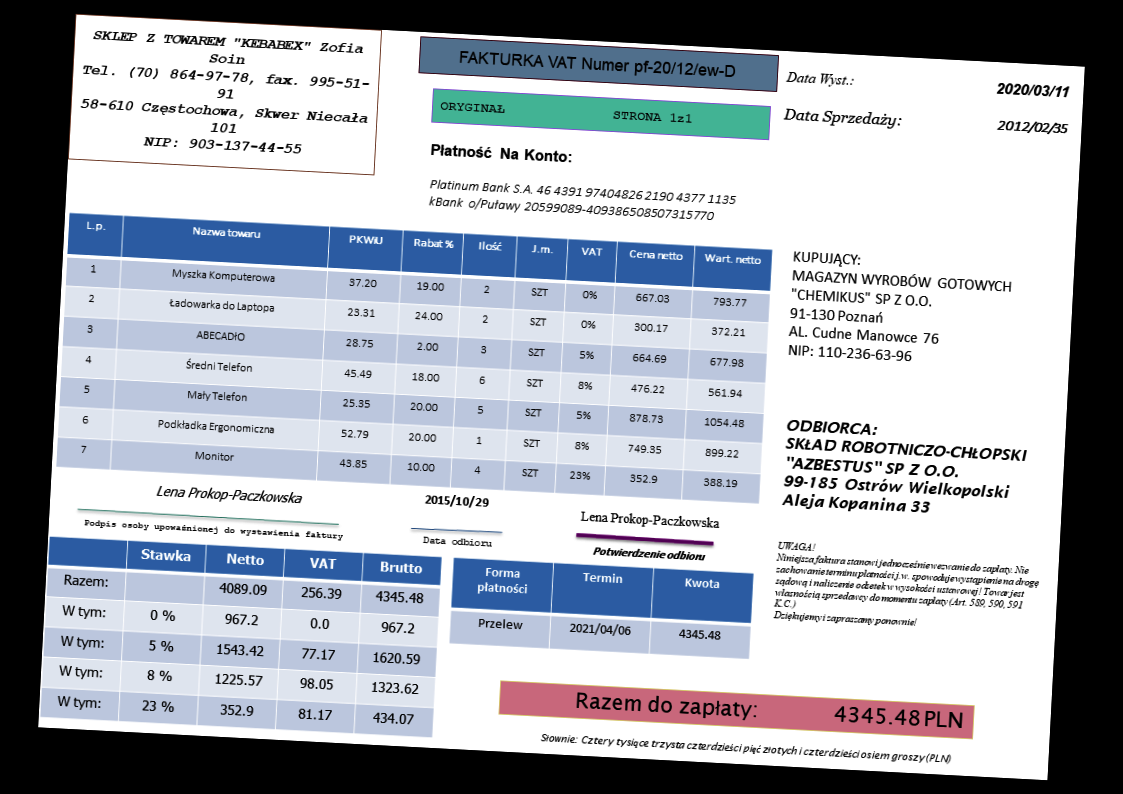Table: (54, 212, 774, 506), (39, 535, 444, 740), (448, 556, 756, 660)
TextBox: (74, 27, 375, 159), (785, 246, 1016, 370), (771, 538, 1044, 637), (780, 416, 1030, 522), (574, 689, 965, 733), (425, 175, 739, 225), (539, 730, 954, 766), (456, 45, 740, 83), (439, 98, 696, 126), (81, 517, 345, 542), (154, 482, 305, 508), (428, 140, 575, 166), (577, 507, 720, 531), (782, 106, 905, 131), (591, 543, 706, 563), (995, 80, 1071, 100), (785, 68, 856, 89), (995, 117, 1069, 137), (423, 491, 491, 511), (421, 533, 493, 550)
